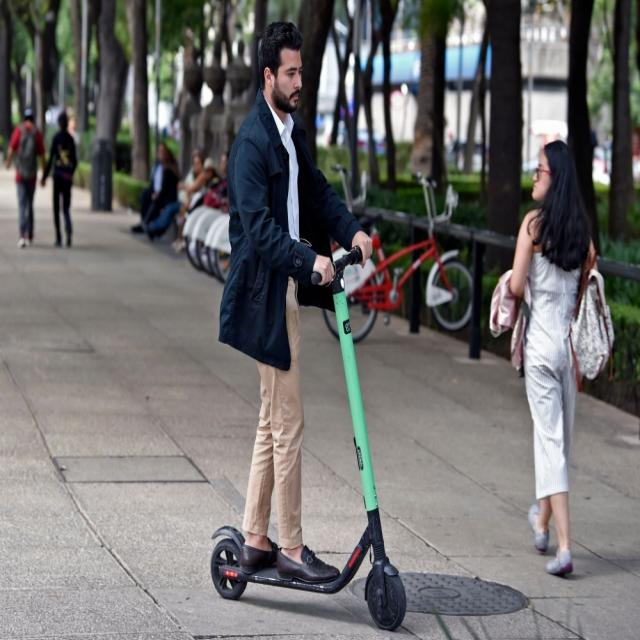non-helmet: (191, 16, 422, 631)
